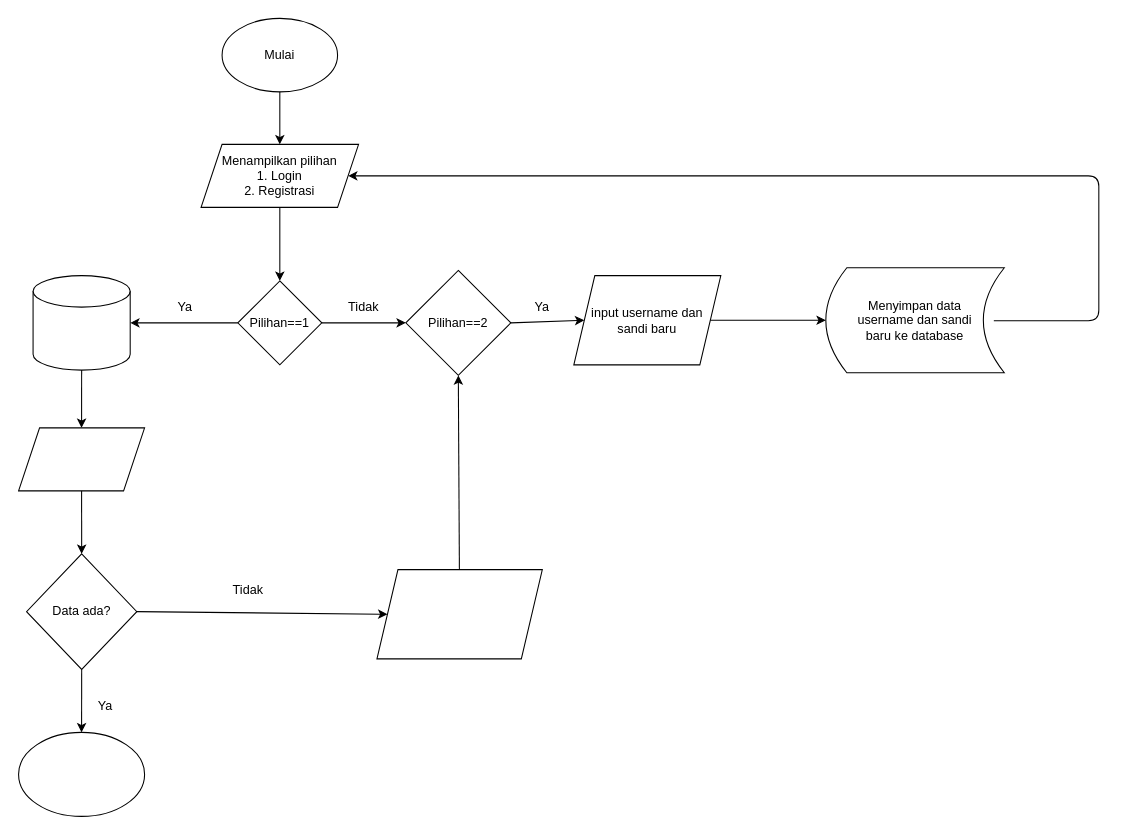
Image size: 1126x835. Some labels were removed from this diagram. The shapes that lost their labels are listed below. From the top down, each one's box as (x1, y1, x2, y2) in pixels, then its label:
(32, 275, 130, 370): Membaca data login pada database
(18, 427, 145, 491): Input username dan sandi
(376, 569, 542, 659): Menampilkan pesan "Akun belum terdaftar, silahkan registrasi dulu"
(18, 731, 145, 816): Selesai
